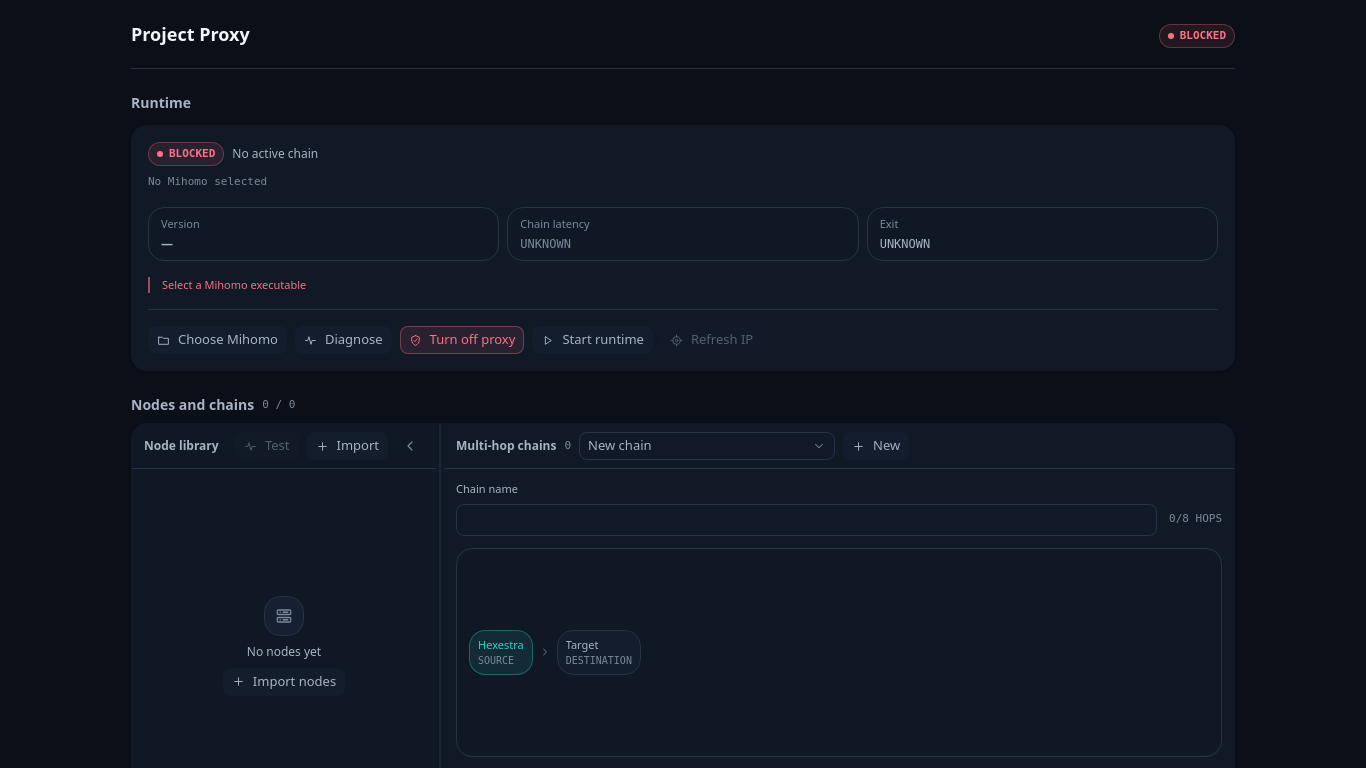
Test: ProxySettings › shows the runtime diagnostic when executable permission is denied
Expected: the text "Select a Mihomo executable" is shown, x1=162 y1=277 x2=306 y2=292
Click the button "Choose Mihomo" at (218, 340), box x1=148 y1=326 x2=287 y2=354
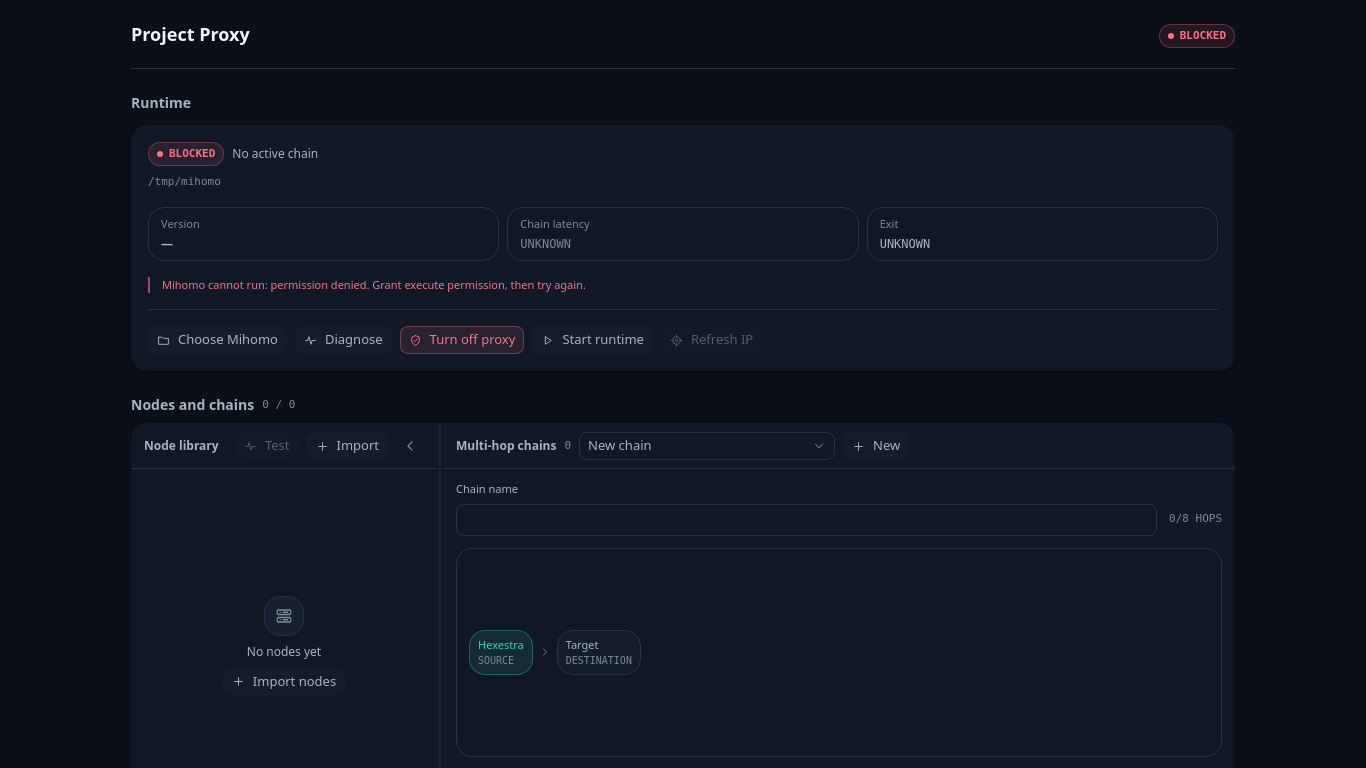
Expected: the text "Mihomo cannot run: permission denied. Grant execute permission, then try again." is shown, x1=162 y1=277 x2=586 y2=292
Expected: the text "Select a Mihomo executable" is gone
